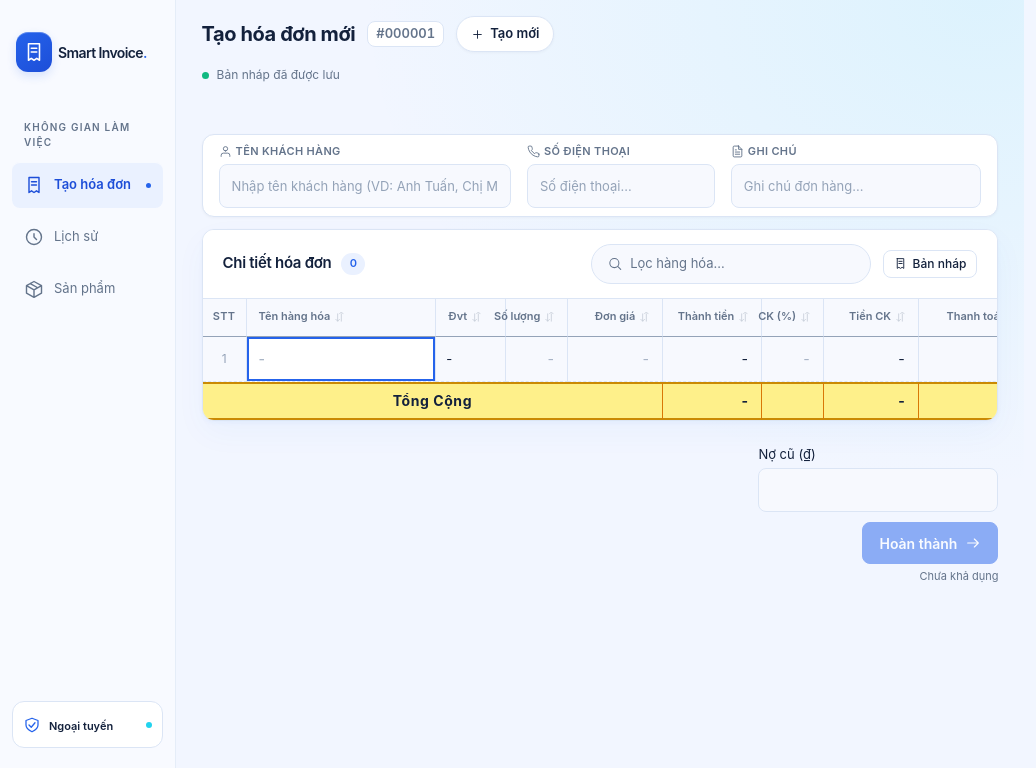
Invoice spreadsheet › selects a product inline, retains focus and supports units without a modal
Check: the text "#000001" is shown, box 367,21 -> 444,47
Type "Coca" into the dropdown named "Tên hàng hóa dòng 1" at (341, 358), box 247,336 -> 435,380
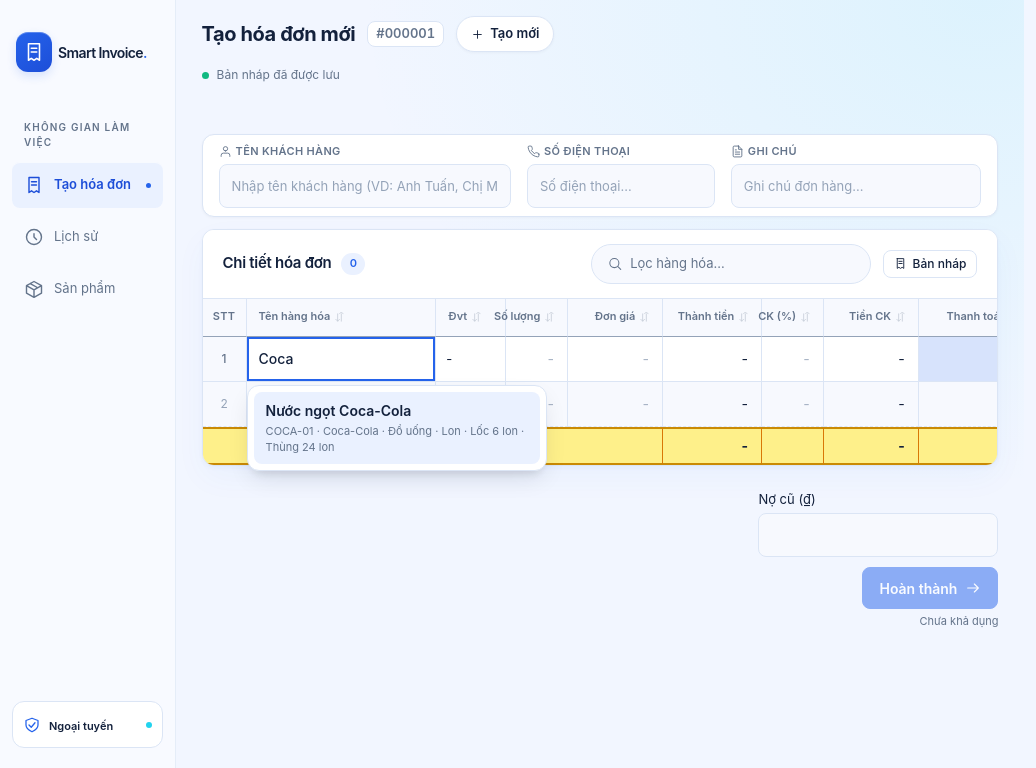
Press Enter in the dropdown named "Tên hàng hóa dòng 1", box 247,336 -> 435,380
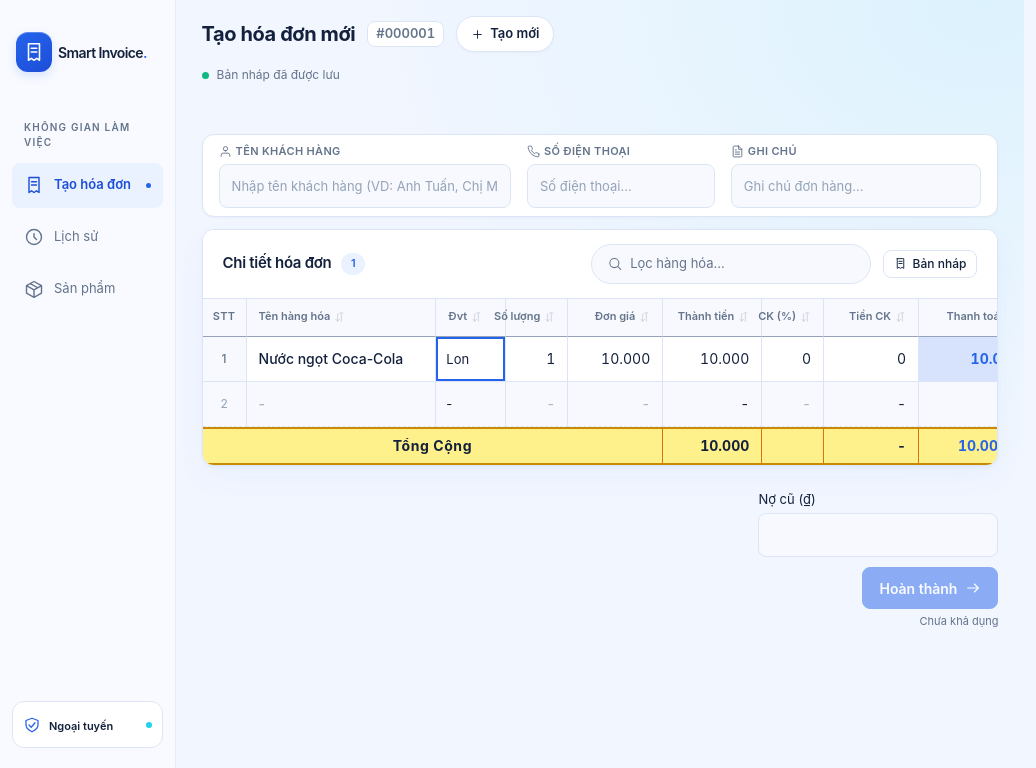
Check: the dropdown named "Tên hàng hóa dòng 1" has attribute data-dirty="false", box 247,336 -> 435,380
Select "Lốc 6 lon" in the dropdown named "Đvt dòng 1" at (471, 358), box 436,336 -> 506,380
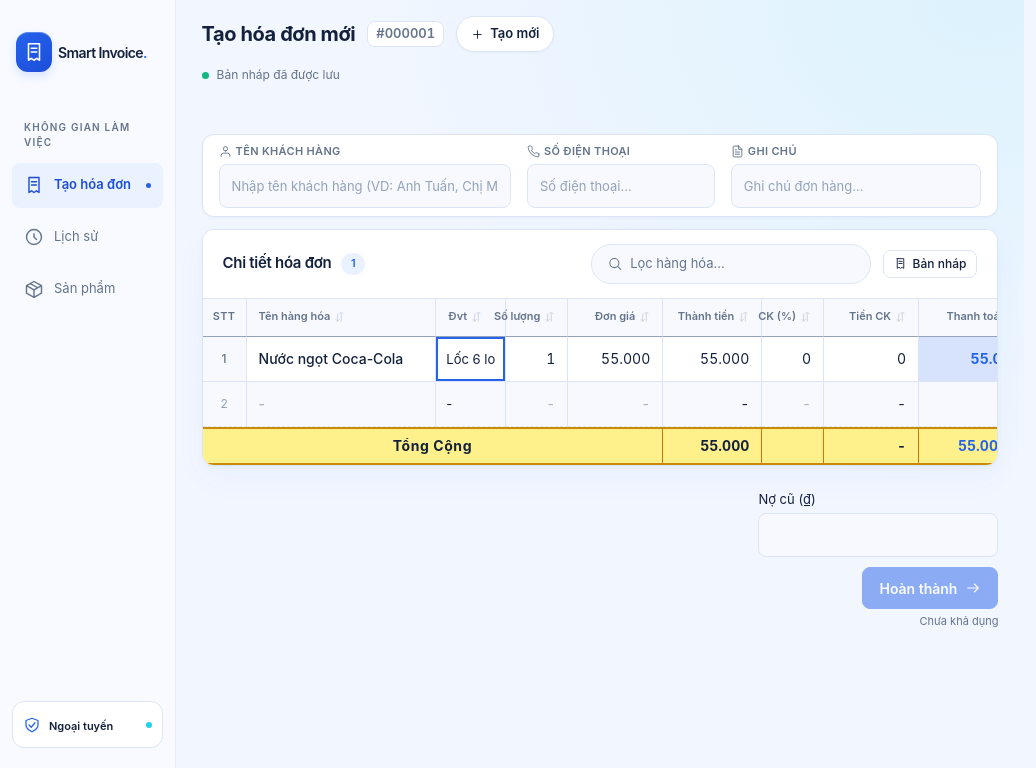
Check: the dropdown named "Tên hàng hóa dòng 2" is empty, box 247,382 -> 435,426
Check: the field named "Đơn giá dòng 1" holds "55.000", box 568,336 -> 662,380
